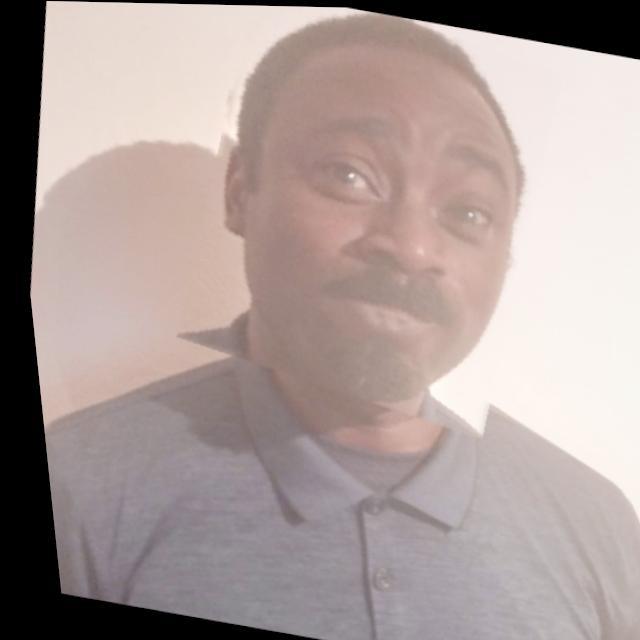sad: (150, 3, 582, 435)
